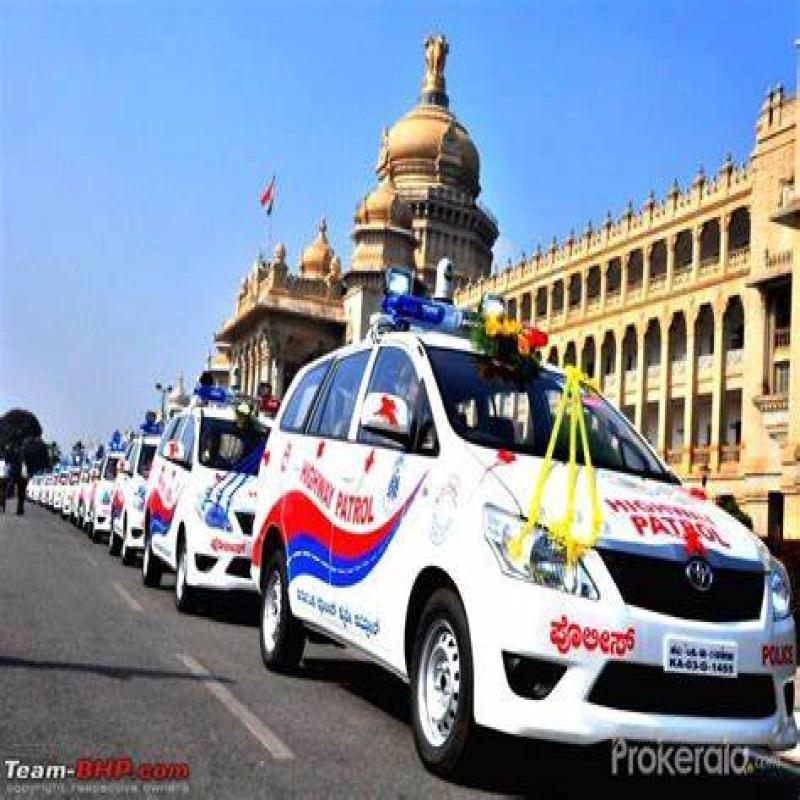AmbulanceSiren: (369, 281, 567, 364), (193, 374, 294, 427)
car: (286, 346, 726, 769), (141, 407, 275, 584)
